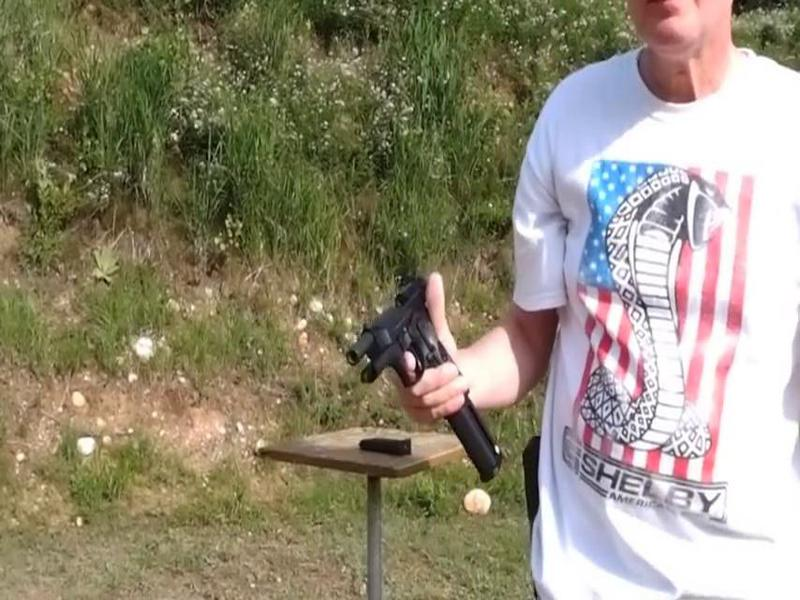Pistola: (336, 251, 467, 400)
